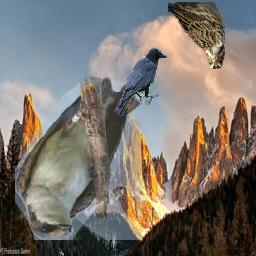Crow: (115, 48, 168, 117)
Sparrow: (169, 3, 226, 70)
Swallow: (15, 76, 141, 240)
